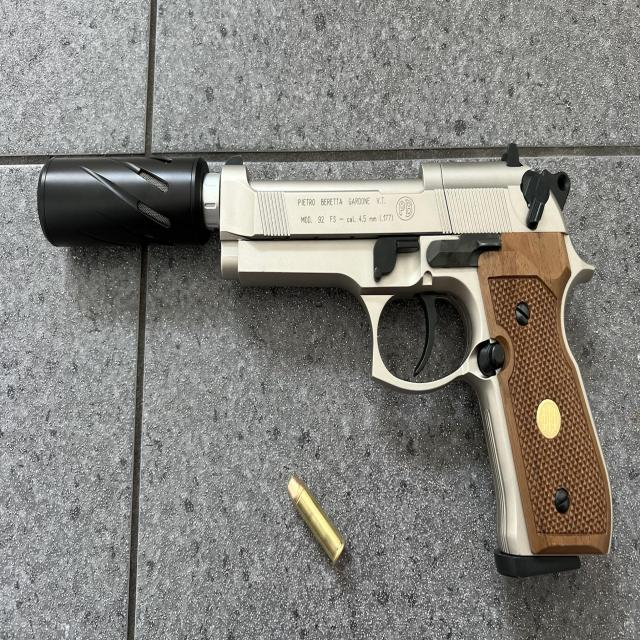Gun: (202, 142, 626, 578)
